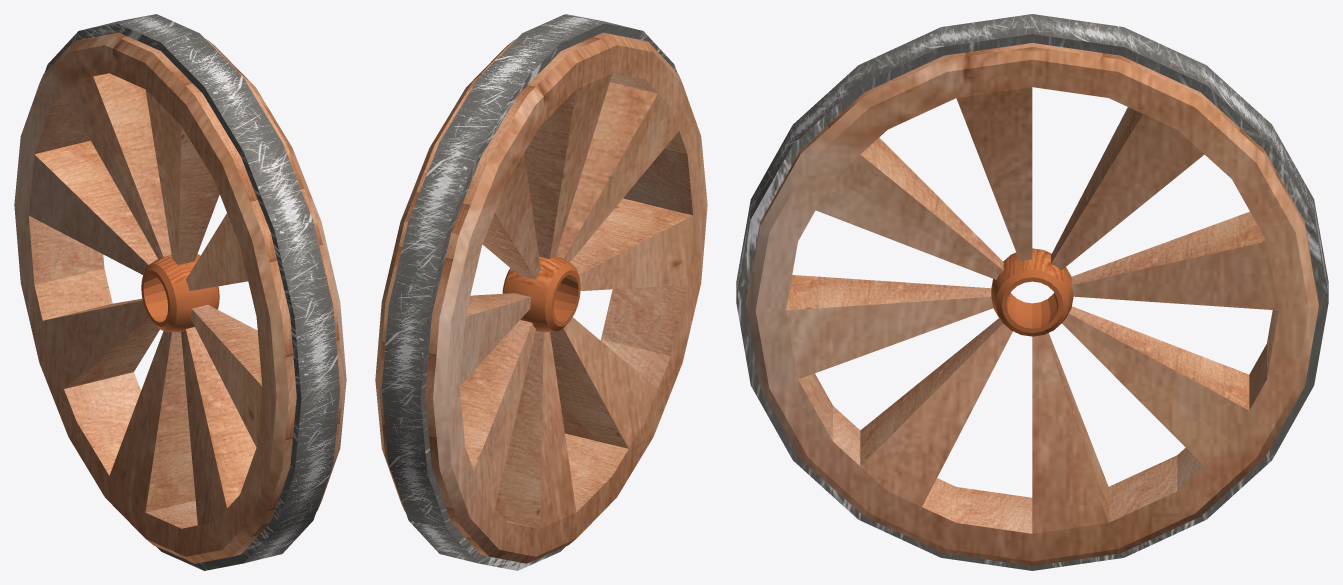
File: Wheel.fbx
3 renders of one model, left to right at view 1: azimuth 30°, elevation 25°; view 2: azimuth 150°, elevation 25°; view 3: azimuth 270°, elevation 25°, orthographic. The views are drawn at different scales.
Parts seen in each view (by area): view 1: pCylinder3; view 2: pCylinder3; view 3: pCylinder3.
Boxes of the visible parts, x1,y1,x2,y2 form: pCylinder3: (14,14,346,570); pCylinder3: (375,14,707,570); pCylinder3: (736,14,1328,570).
Bounding box in the file's own units: 0.2976 × 2.07 × 2.07.
Materials: 3 (3 with a texture image).
